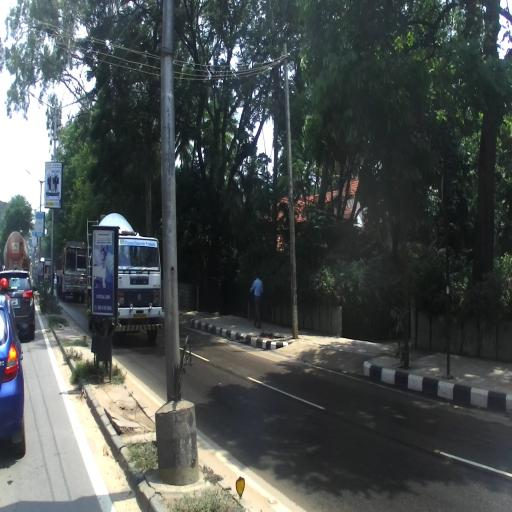street_light_0: (54, 90, 96, 118), (24, 88, 57, 112), (26, 168, 42, 188)
